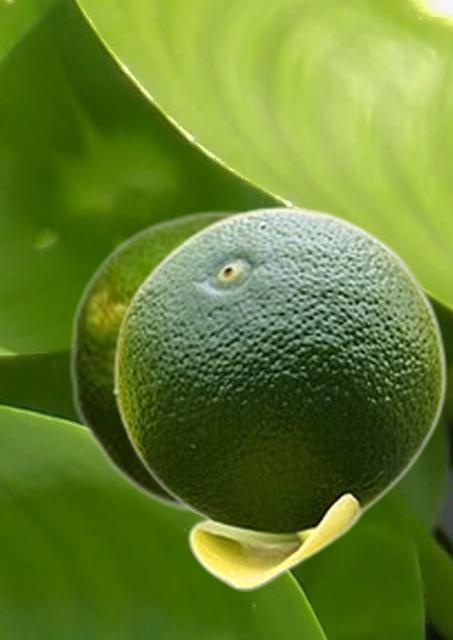calamansi: (113, 206, 446, 590), (67, 209, 242, 513)
